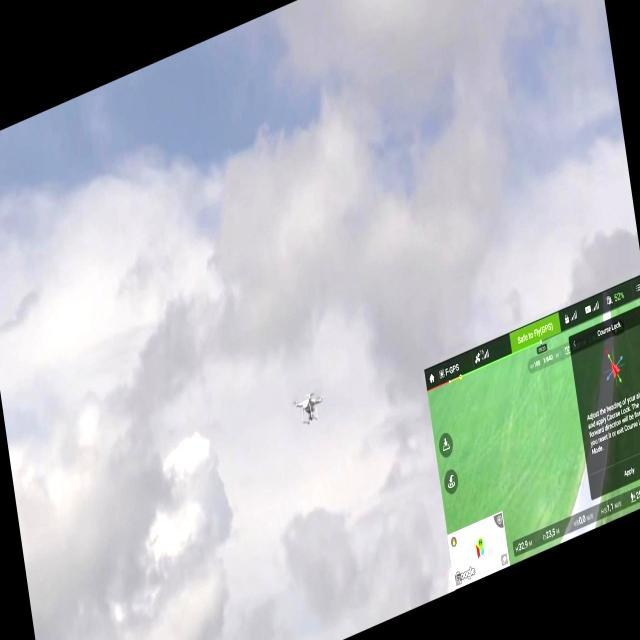drone: (290, 380, 326, 437)
